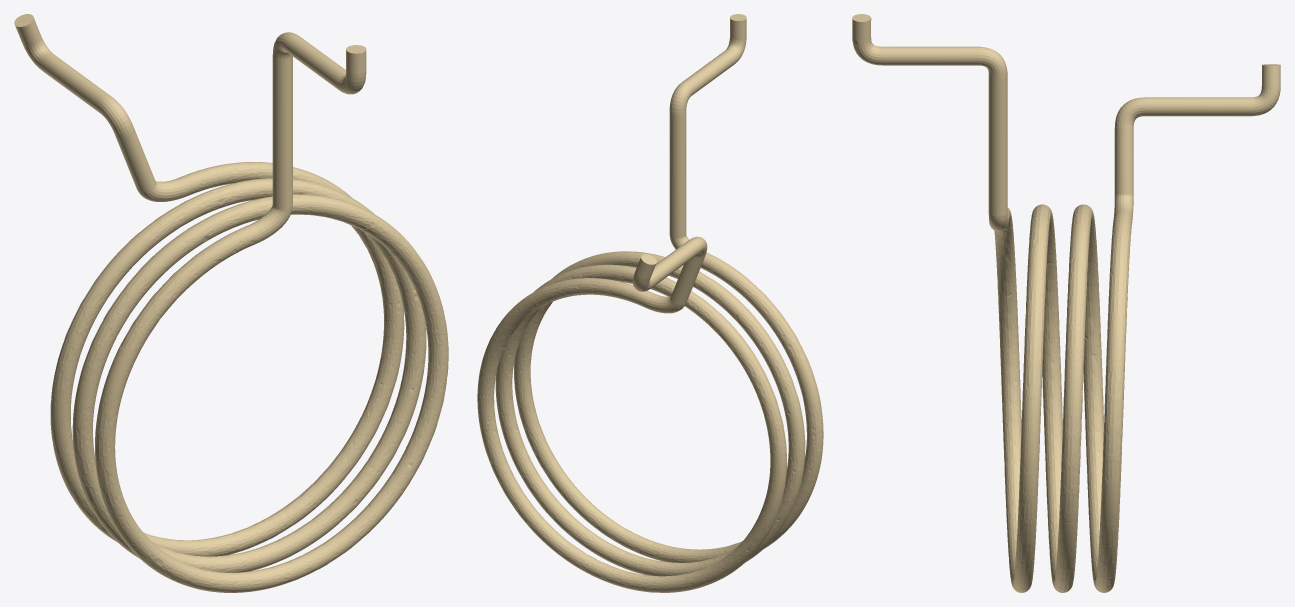
Rendered from throttle-return-spring-illustrative.glb.
The picture shows the model from 3 angles, left to right: view 1: azimuth 30°, elevation 25°; view 2: azimuth 150°, elevation 25°; view 3: azimuth 270°, elevation 25°; orthographic projection. The views are drawn at different scales.
Parts seen in each view (by area): view 1: world; view 2: world; view 3: world.
Part boxes in pixels (<box>): world: <box>14,14,448,592</box>; world: <box>477,14,823,592</box>; world: <box>852,14,1280,592</box>.
Size of the model in its own units: 0.0185 by 0.0292 by 0.0204.
